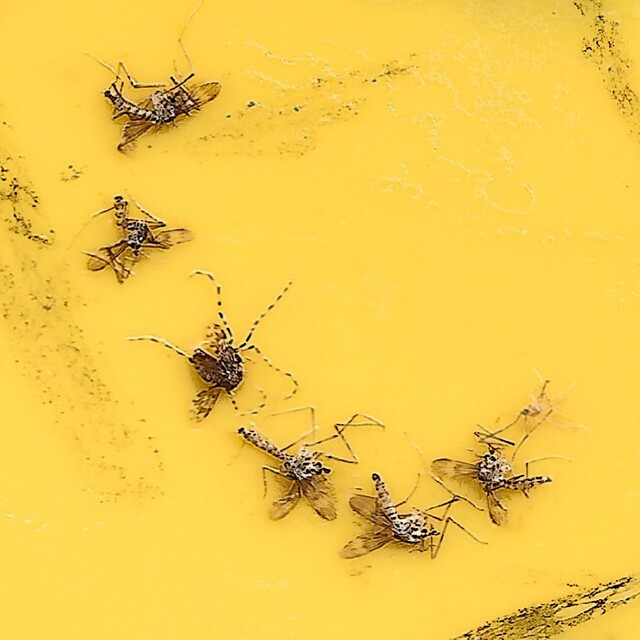Nematocera: (127, 266, 305, 422), (234, 426, 344, 522), (102, 75, 223, 158), (337, 471, 441, 565), (431, 446, 559, 521), (81, 194, 195, 273)
